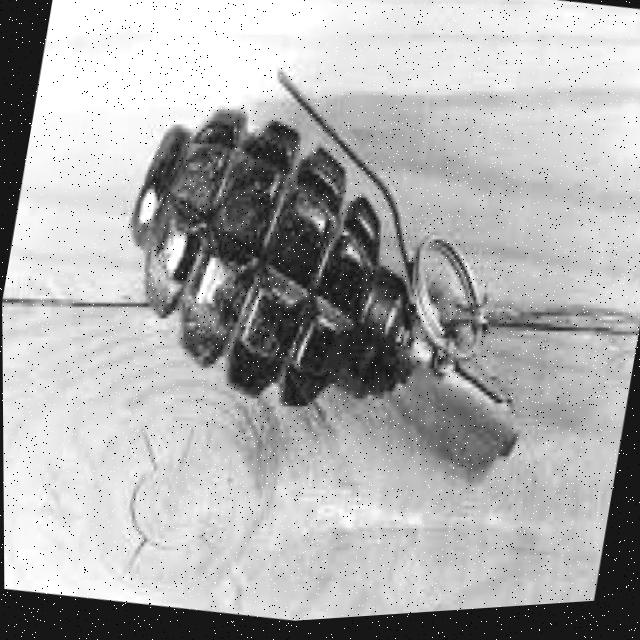grenade: (81, 60, 575, 532)
